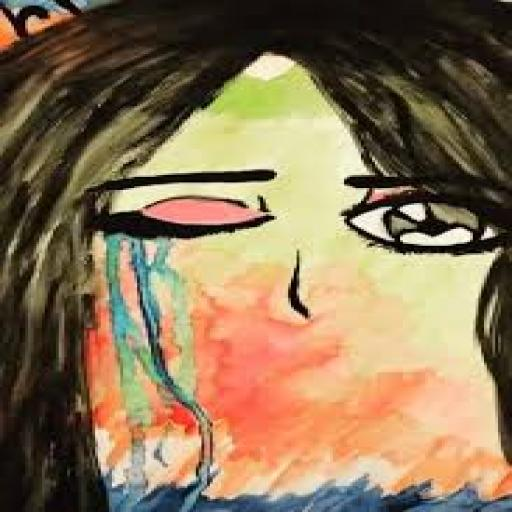person: (1, 0, 512, 510)
